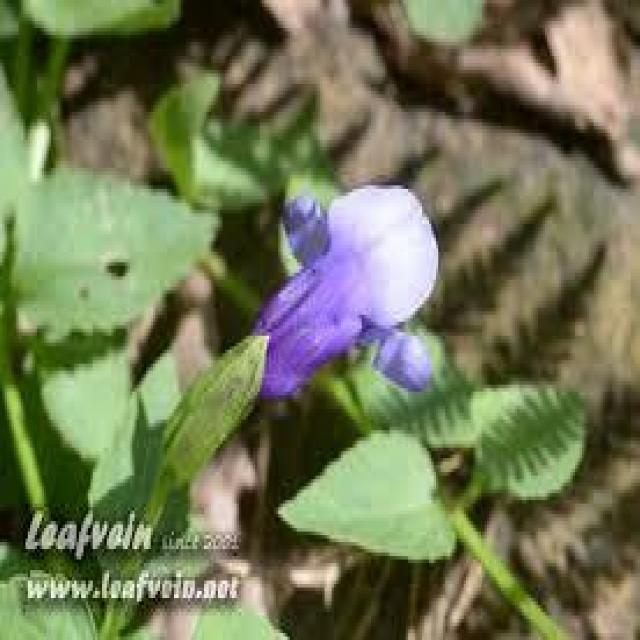organic waste: (245, 164, 444, 410)
